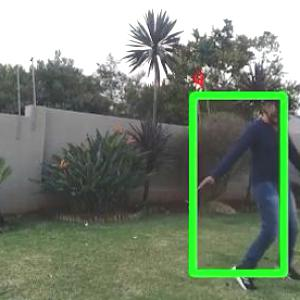land: (198, 92, 299, 292)
